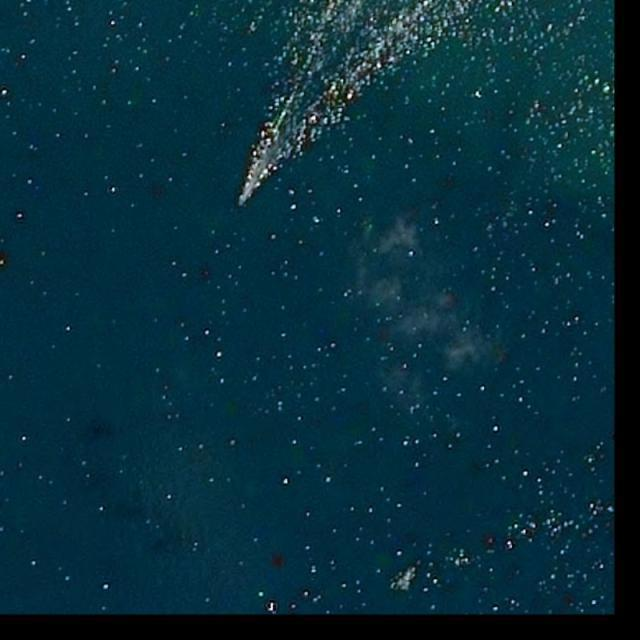ship: (239, 196, 246, 207)
